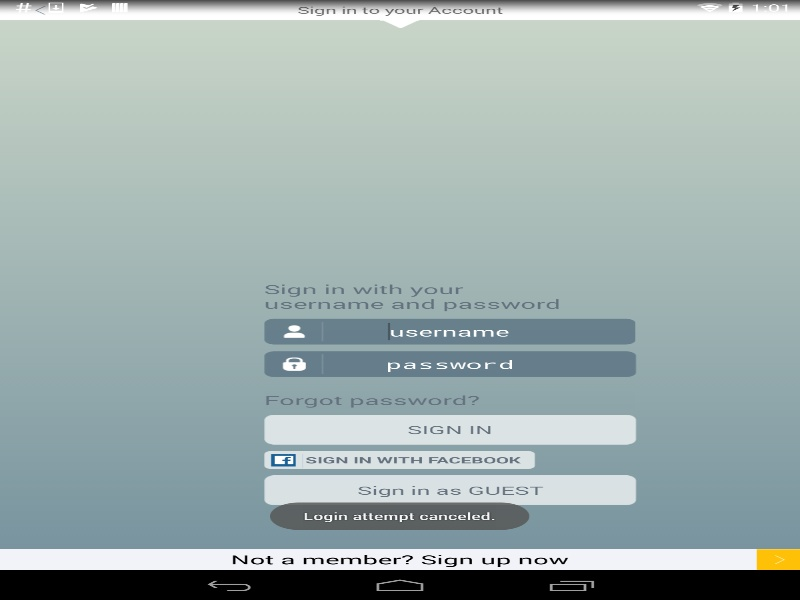Button: (264, 414, 636, 444), (264, 475, 636, 505), (264, 450, 535, 469)
Input: (264, 350, 636, 377), (264, 318, 635, 344)
